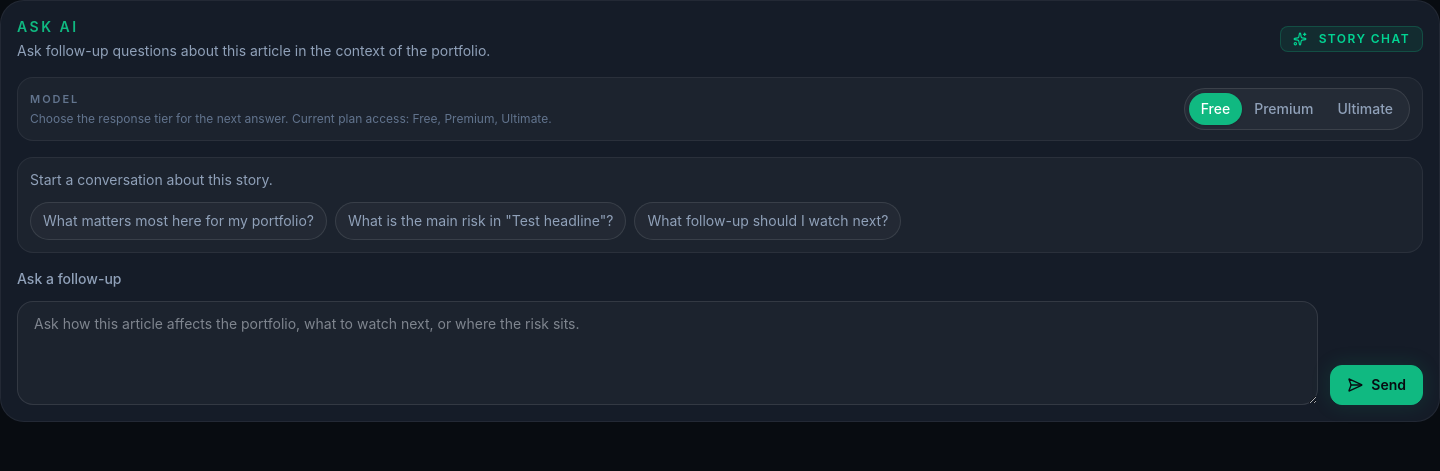
it: ArticleChatPanel › clears sending state after a failed request
This screenshot has width=1440, height=471.
Replace the text in the text box with placeholder "Ask how this article" with "Second question" at (668, 353), box [17, 301, 1318, 405]
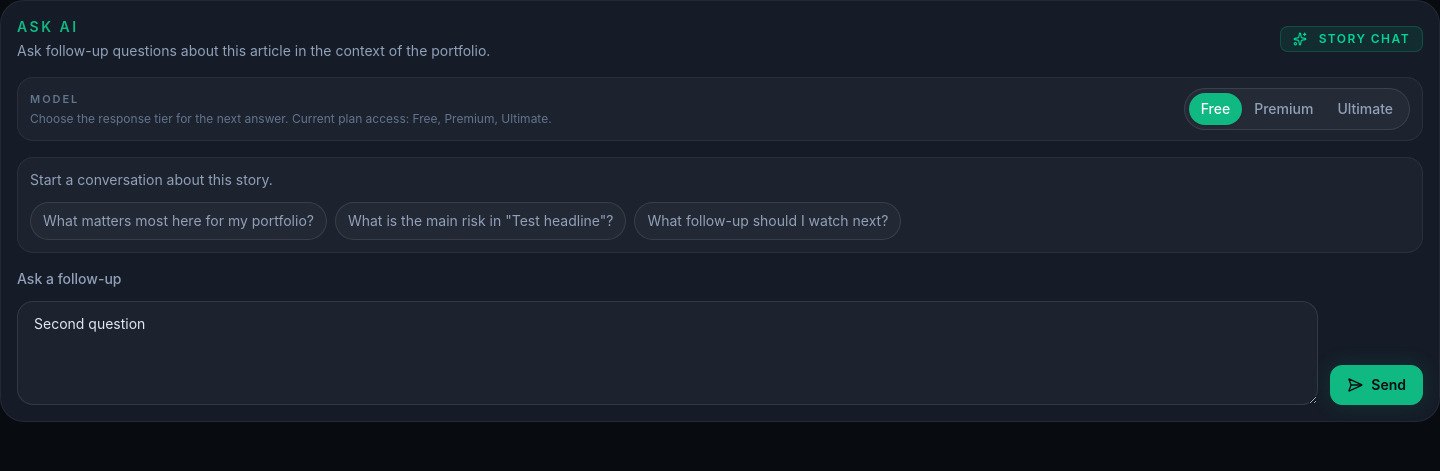
Click the button "Send".
click(1377, 385)  # box [1330, 365, 1423, 405]
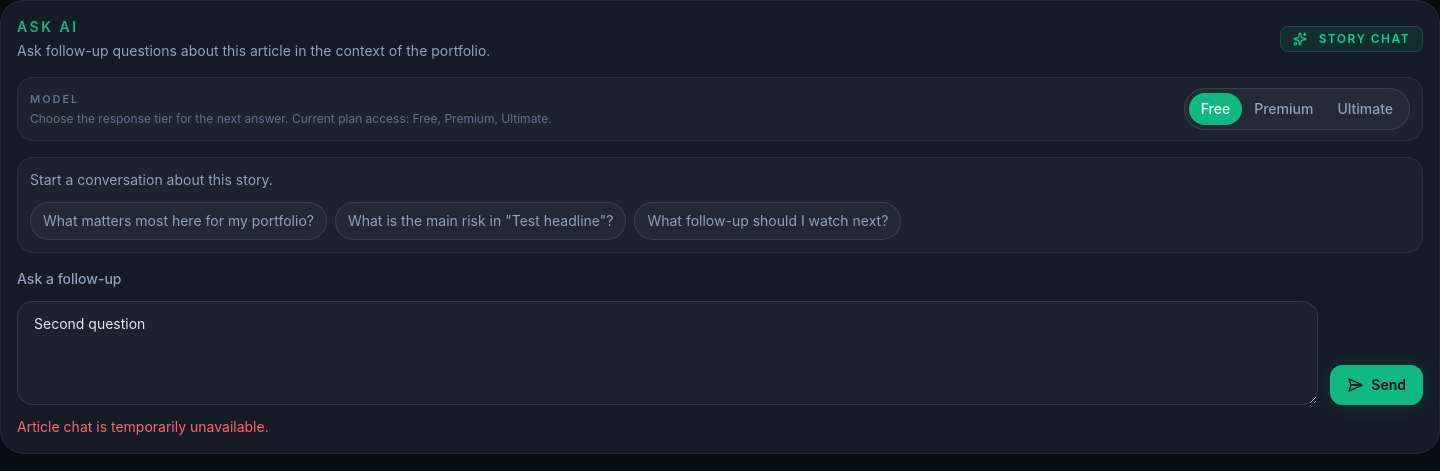
Expected: the text "Article chat is temporarily unavailable." is shown, [17, 418, 269, 435]
